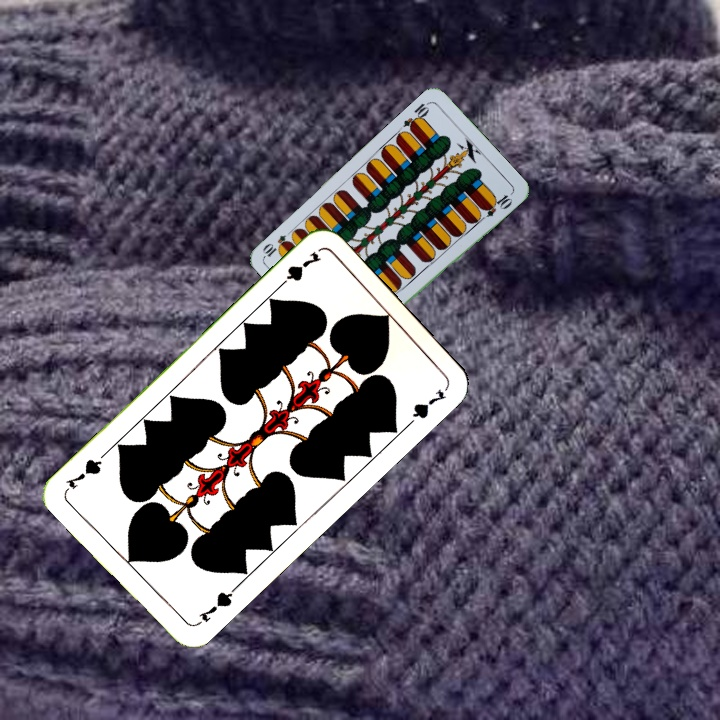E10: (399, 98, 432, 134)
G7: (273, 247, 324, 292), (192, 583, 239, 628)
